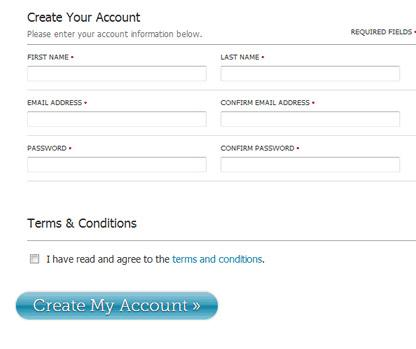button: (16, 291, 218, 320)
checkbox: (29, 252, 40, 264)
checkbox_with_label: (26, 250, 264, 265)
field: (22, 154, 207, 173), (219, 109, 402, 128), (220, 63, 401, 82), (221, 155, 401, 174), (24, 64, 208, 82), (23, 110, 207, 127)
field_with_label: (22, 52, 209, 84), (20, 144, 208, 175), (217, 98, 403, 129), (218, 145, 402, 176), (218, 52, 401, 83), (21, 99, 209, 129)
